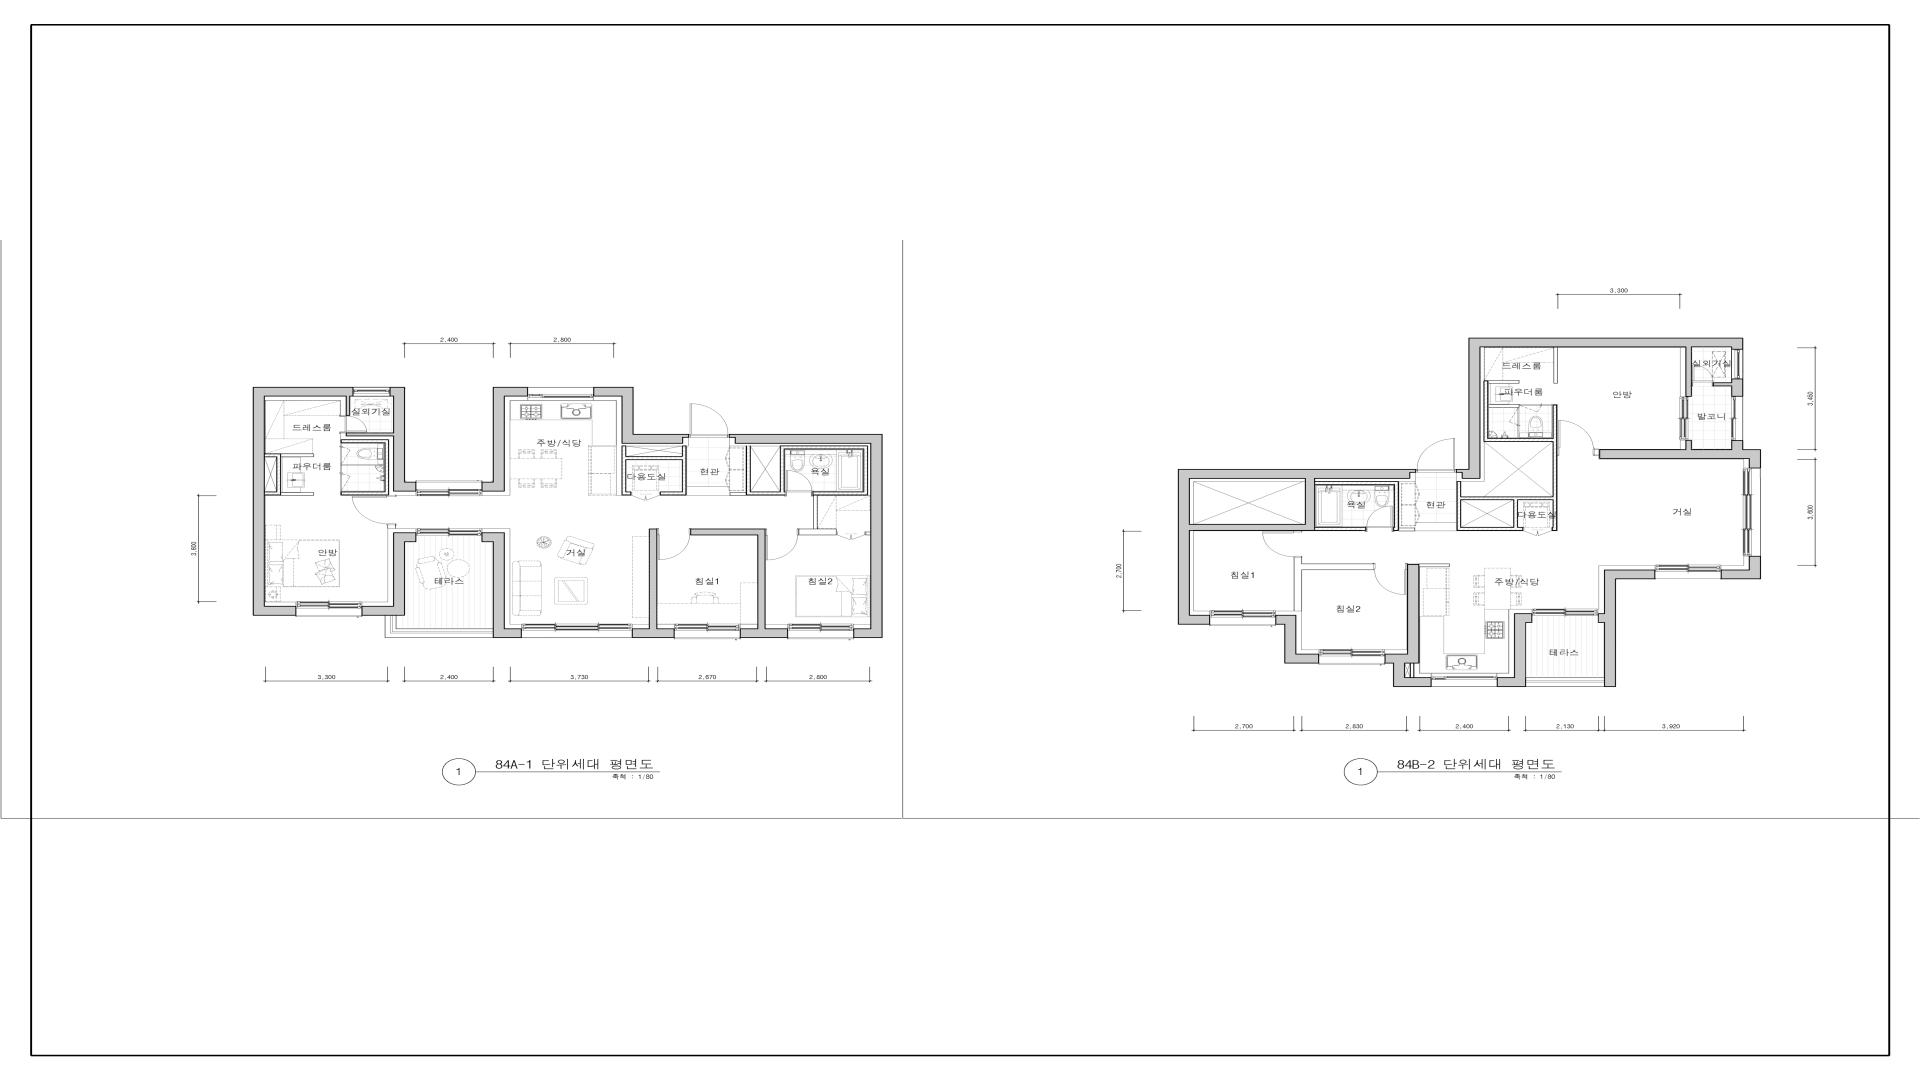door: (351, 496, 397, 529), (690, 404, 729, 438), (1557, 421, 1594, 456), (1416, 439, 1456, 472), (1262, 531, 1303, 558), (766, 529, 799, 560), (658, 529, 691, 560), (1374, 563, 1407, 595), (785, 471, 814, 496), (1366, 506, 1393, 531), (340, 415, 367, 433), (1692, 365, 1713, 386), (836, 531, 865, 541), (1523, 527, 1552, 537), (340, 465, 351, 491), (632, 492, 661, 500), (340, 444, 351, 464), (1519, 405, 1543, 413), (1510, 407, 1519, 426)
wall: (1456, 338, 1743, 479), (1178, 469, 1416, 625), (729, 434, 882, 638), (253, 386, 353, 616), (1457, 381, 1557, 531), (731, 446, 868, 535), (691, 529, 789, 638), (345, 388, 417, 492), (1598, 570, 1655, 687), (1189, 479, 1315, 531), (1385, 564, 1432, 687), (593, 386, 690, 444), (1315, 481, 1415, 531), (481, 386, 527, 492), (632, 529, 675, 638), (361, 533, 417, 616), (1600, 440, 1762, 468), (1294, 558, 1374, 612), (481, 533, 522, 638), (621, 446, 687, 496), (340, 439, 389, 496), (1497, 613, 1532, 687), (1275, 615, 1319, 663), (265, 454, 314, 496), (1721, 556, 1762, 579), (1713, 378, 1743, 397), (1316, 527, 1366, 531), (1553, 348, 1557, 384), (1489, 380, 1519, 384), (1514, 500, 1518, 527), (1489, 405, 1519, 407), (1420, 564, 1451, 567), (1410, 663, 1415, 678), (1594, 448, 1600, 455), (1518, 426, 1519, 438), (866, 531, 870, 535), (1542, 405, 1552, 406)
window: (522, 624, 632, 638), (1743, 468, 1760, 556), (787, 624, 853, 640), (297, 601, 361, 617), (675, 624, 740, 640), (1211, 611, 1275, 626), (1532, 609, 1598, 624), (1319, 650, 1385, 665), (417, 481, 481, 496), (527, 388, 593, 401), (1656, 566, 1721, 579), (1432, 674, 1497, 687), (1526, 678, 1604, 687), (1680, 397, 1692, 440), (1731, 397, 1743, 440), (417, 529, 481, 535), (353, 386, 390, 397), (1731, 349, 1743, 378)
